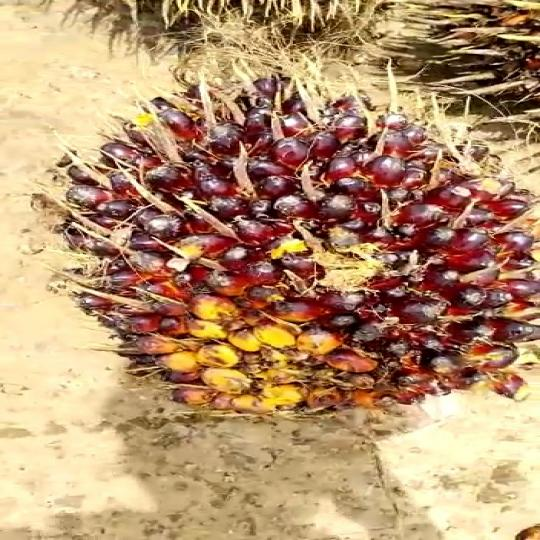mentah: (50, 66, 540, 426)
